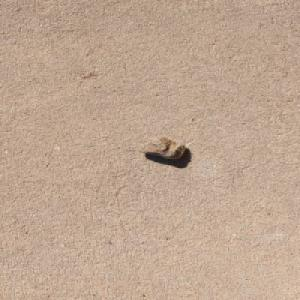Rock: (138, 136, 186, 159)
